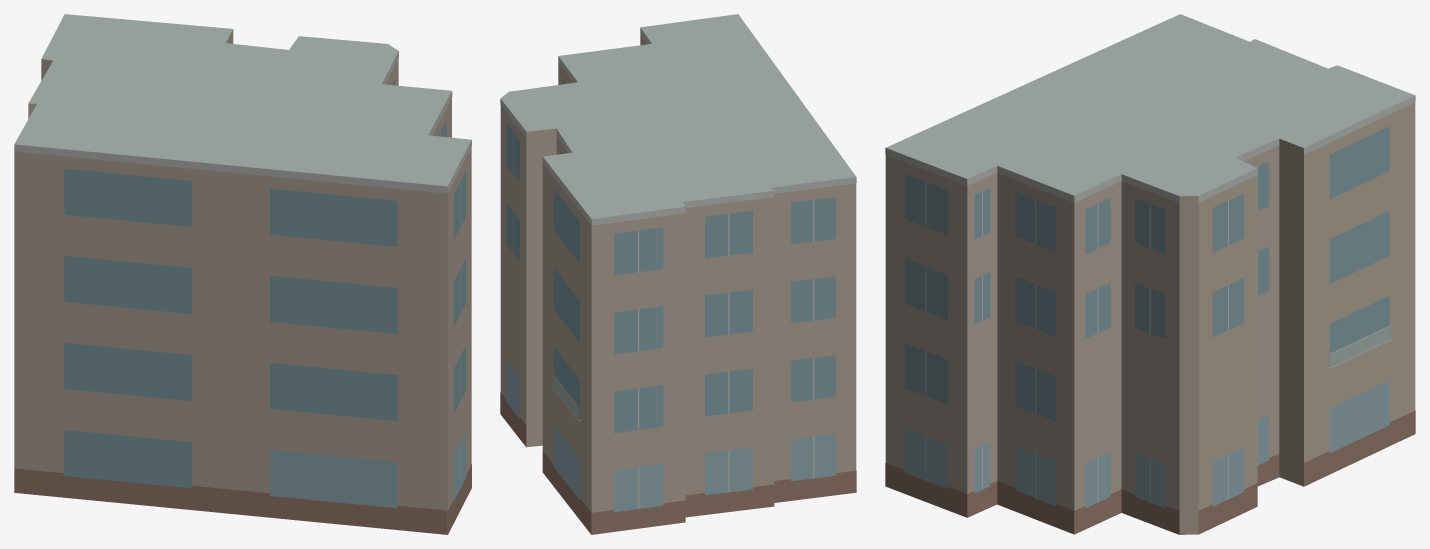
Rendered from survey-upis-32722443.glb.
3 views of the same model, side by side, from view 1: azimuth 30°, elevation 25°; view 2: azimuth 150°, elevation 25°; view 3: azimuth 270°, elevation 25° (orthographic). The views are drawn at different scales.
Parts seen in each view (by area): view 1: survey-upis-32722443.tmp; view 2: survey-upis-32722443.tmp; view 3: survey-upis-32722443.tmp.
Boxes of the visible parts, left/top/right/bottom form: survey-upis-32722443.tmp: left=14, top=14, right=471, bottom=534; survey-upis-32722443.tmp: left=500, top=14, right=856, bottom=534; survey-upis-32722443.tmp: left=885, top=14, right=1415, bottom=534.
Bounding box in the file's own units: 13.74 × 11.9 × 16.88.
